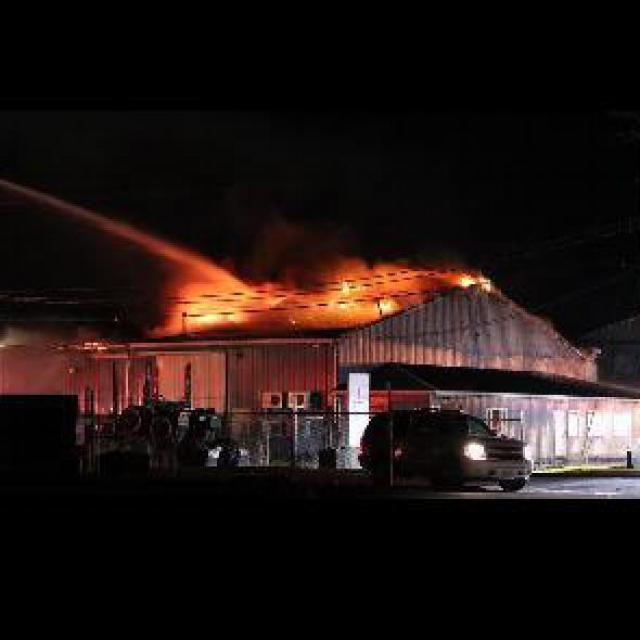fire: (137, 234, 503, 332)
smoke: (0, 316, 104, 354)
